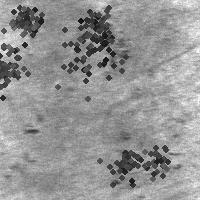rolled-in_scale: (36, 7, 136, 107), (112, 128, 179, 185), (67, 0, 127, 60), (97, 137, 151, 191), (127, 132, 177, 182), (92, 13, 130, 76), (0, 0, 48, 45), (0, 33, 33, 97)
